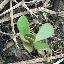Purslane: (12, 16, 56, 55)
